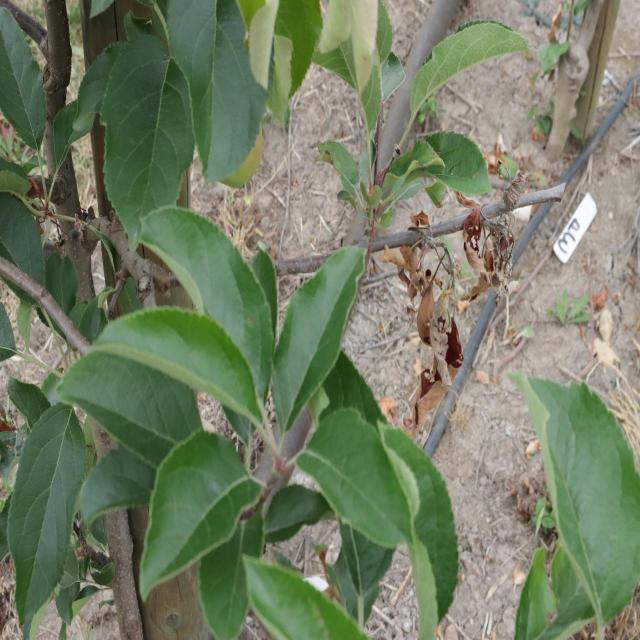-FireBlight-: (388, 206, 462, 442), (452, 188, 512, 312)
